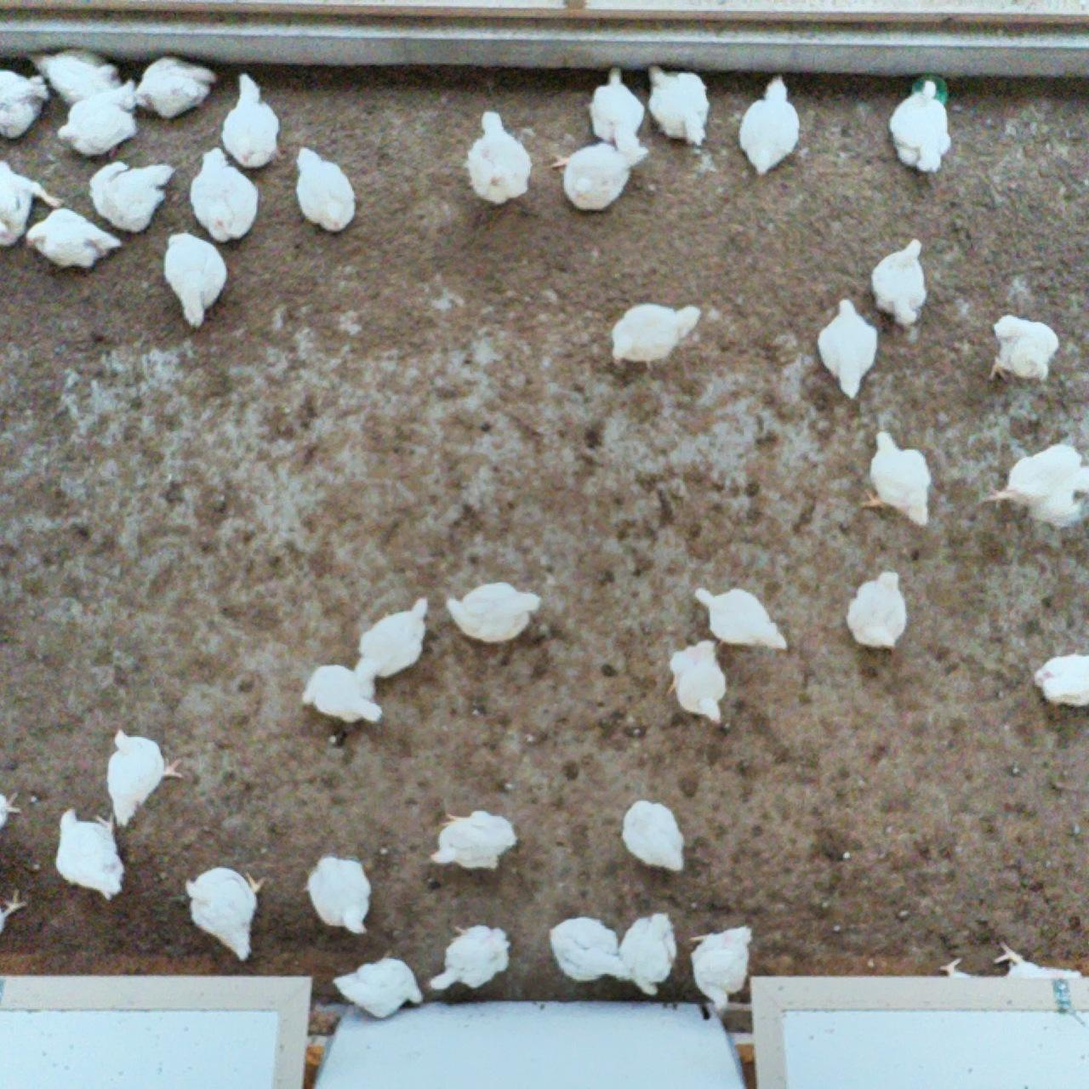chicken: (979, 442, 1089, 530), (182, 863, 264, 962), (103, 726, 184, 825), (607, 296, 705, 375), (860, 423, 933, 528), (548, 139, 651, 213), (688, 583, 793, 654), (989, 941, 1085, 1018), (50, 804, 127, 899), (190, 143, 261, 245), (158, 228, 229, 329), (88, 156, 178, 235), (329, 952, 427, 1024), (440, 577, 543, 645), (463, 107, 533, 207), (737, 72, 803, 178), (426, 916, 511, 998), (353, 593, 432, 681), (221, 69, 287, 172), (815, 297, 881, 400), (301, 851, 375, 939), (426, 805, 519, 875), (0, 155, 65, 255), (690, 923, 760, 1014), (886, 77, 952, 173), (27, 46, 125, 110), (23, 206, 119, 271), (644, 61, 711, 150), (844, 565, 911, 654), (291, 143, 358, 231), (665, 635, 729, 727), (546, 913, 630, 983), (618, 795, 688, 878), (300, 660, 384, 729), (586, 62, 647, 156), (134, 54, 218, 122), (870, 233, 930, 328), (988, 313, 1063, 388), (56, 94, 141, 160), (618, 905, 678, 996), (0, 62, 49, 145), (938, 955, 1000, 1016), (1034, 650, 1089, 712), (0, 880, 26, 936), (0, 787, 26, 833)
